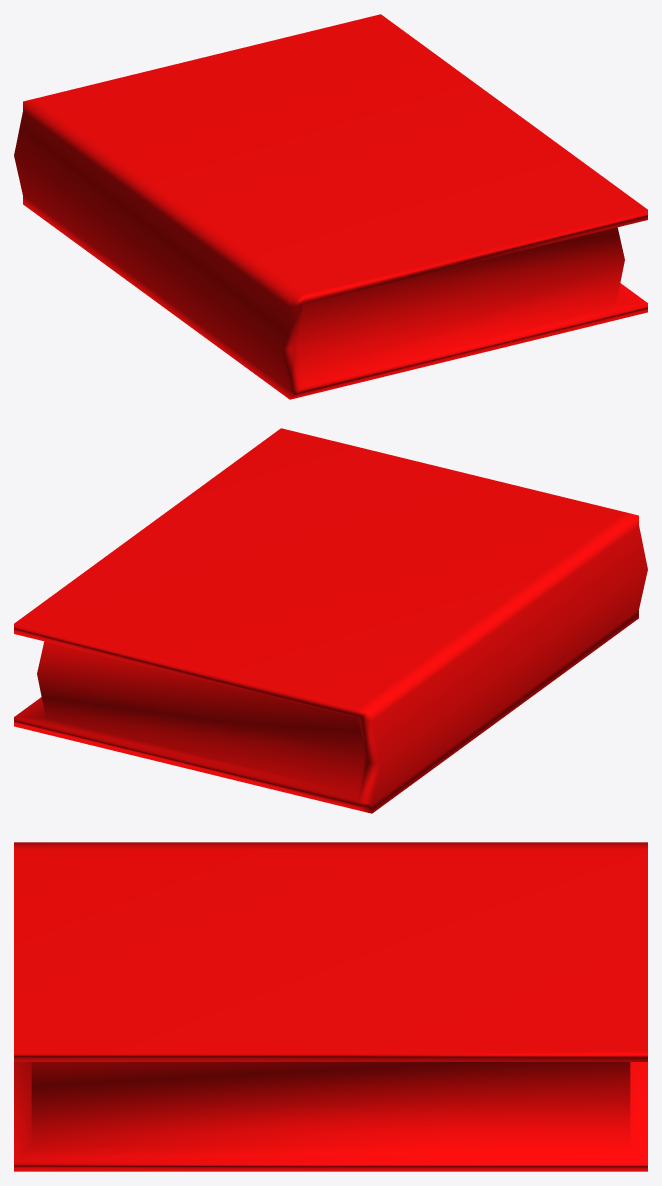
The model's file is Book03.fbx.
3 renders of one model, top to bottom at view 1: azimuth 30°, elevation 25°; view 2: azimuth 150°, elevation 25°; view 3: azimuth 270°, elevation 25°, orthographic. The views are drawn at different scales.
Parts seen in each view (by area): view 1: Book03; view 2: Book03; view 3: Book03.
Boxes of the visible parts, x1,y1,x2,y2 form: Book03: [14, 14, 647, 399]; Book03: [14, 428, 647, 813]; Book03: [14, 842, 647, 1171].
Bounding box in the file's own units: 1.79 × 0.4795 × 2.26.
